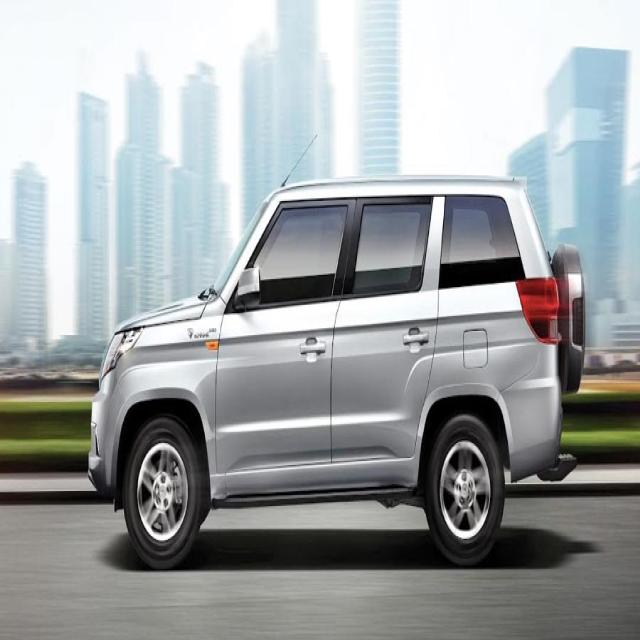light_vehicle: (73, 178, 581, 556)
